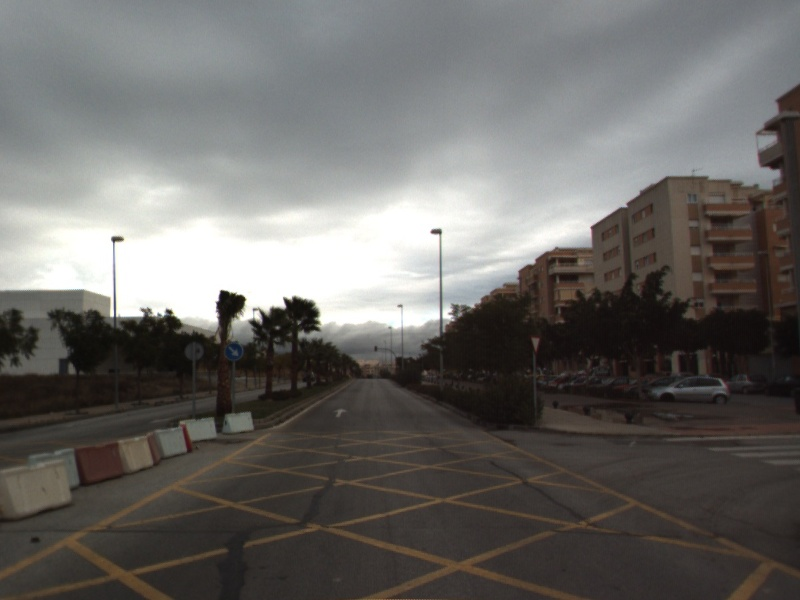STRAIGHT: (331, 406, 350, 419)
